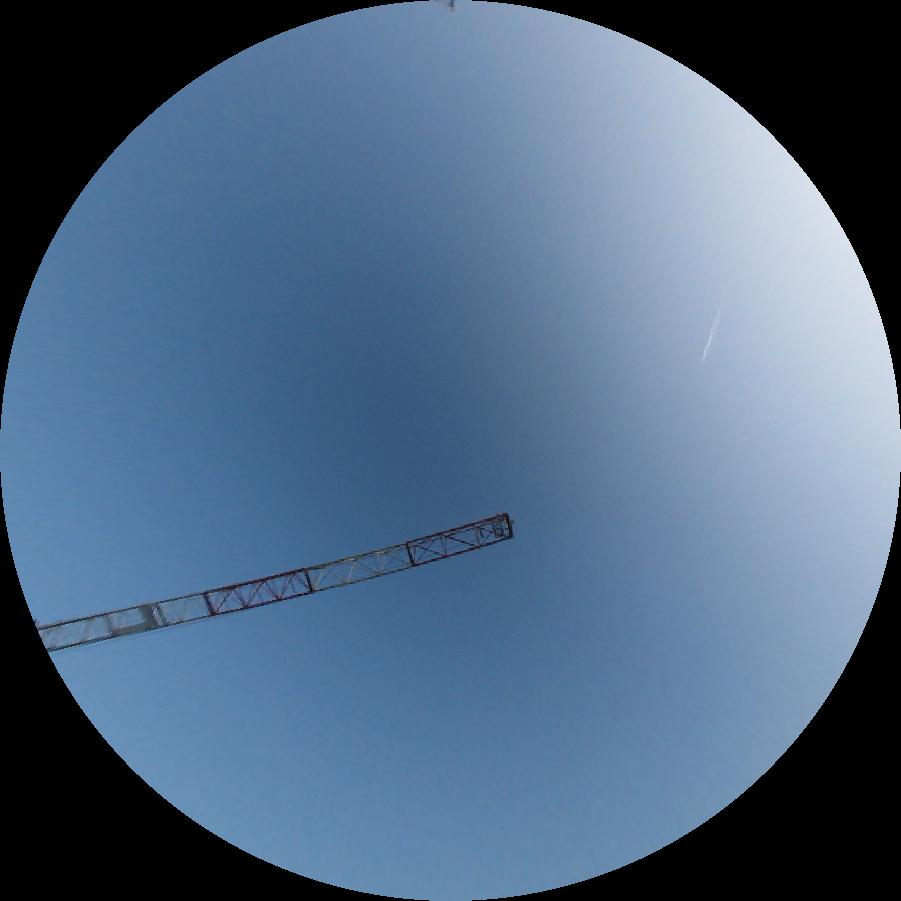contrail young: (701, 301, 721, 364)
